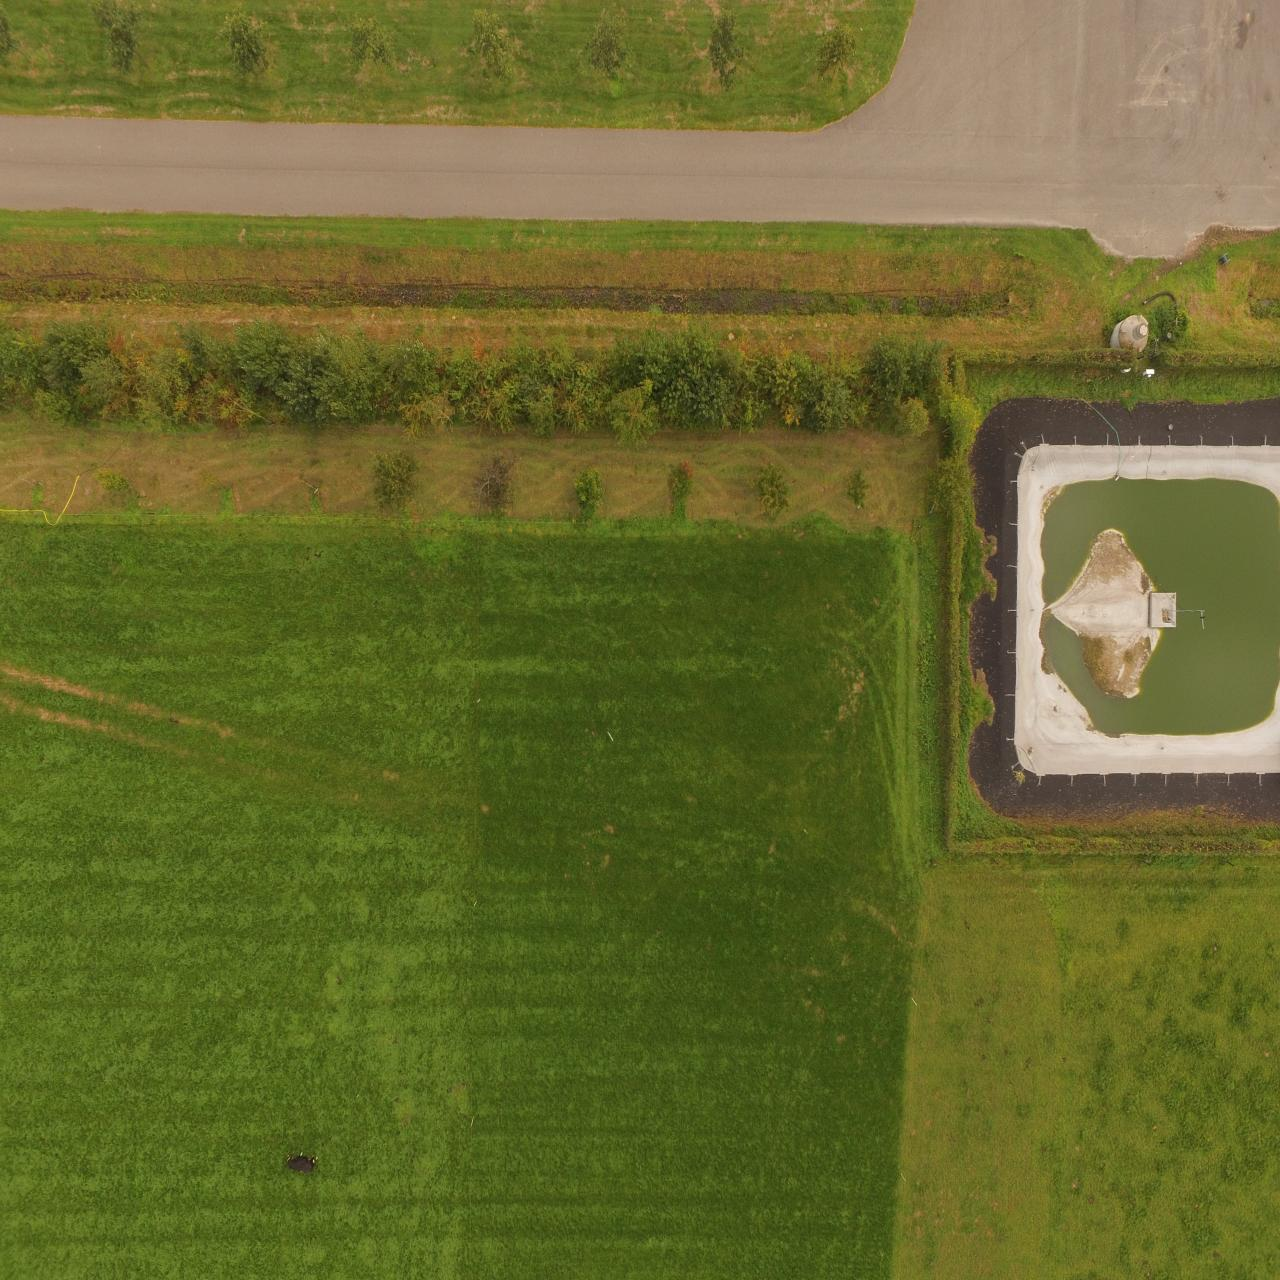cow: (284, 1152, 319, 1175)
